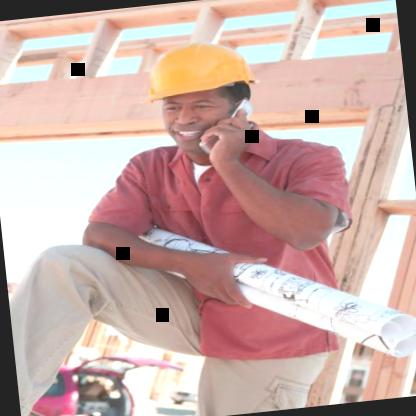helmet: (138, 34, 270, 160)
